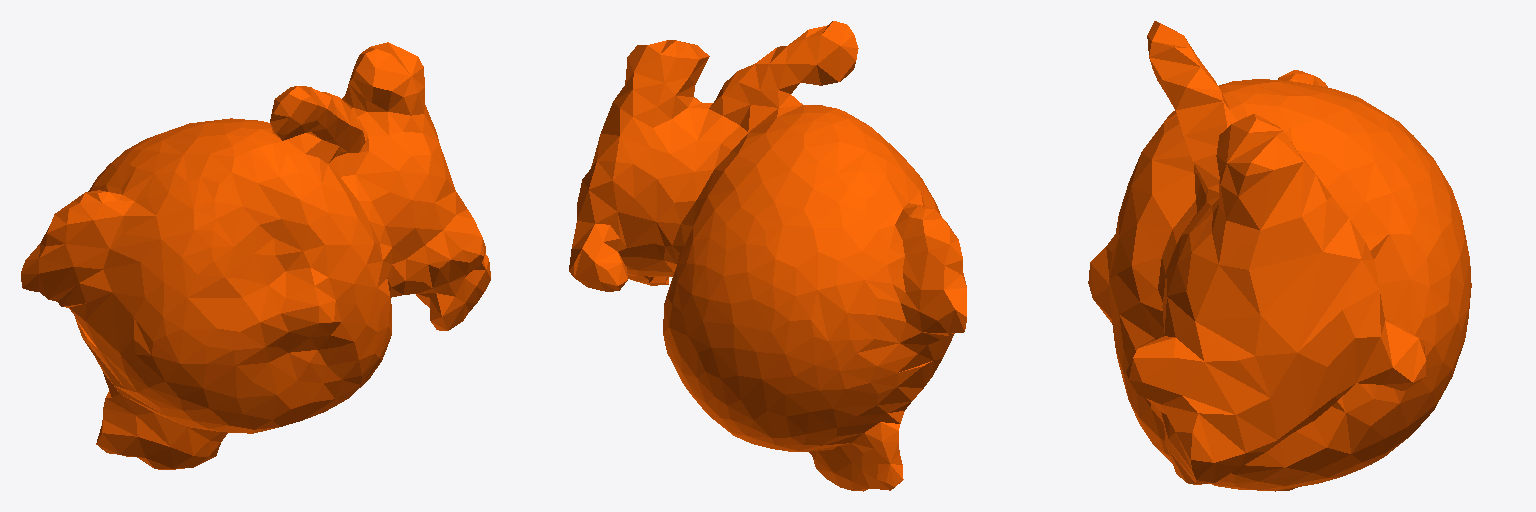
The robot description file, URDF, robot "panda":
<?xml version="1.0" ?>
<robot name="panda">
   <material name="obj_color">
      <color rgba="1.0 0.423529411765 0.0392156862745 1.0"/>
   </material>
   <link name="top">
      <inertial>
         <origin rpy="0.0006080035623306446 0.0008630026575102367 0.000997781574985453" xyz="-0.002590551252002001 0.001338426756370152 -0.002767647821465706"/>
         <mass value="0.8223557494407959"/>
         <inertia ixx="0.0006586721034038481" ixy="6.830392757387336e-05" ixz="-8.568042569136526e-05" iyy="0.0009830368963862836" iyz="2.938582704154969e-05" izz="0.0008270787950362024"/>
      </inertial>
      <visual>
         <origin rpy="0 0 0" xyz="0 0 0"/>
         <geometry>
            <mesh filename="top_watertight_tiny.stl" scale="1 1 1"/>
         </geometry>
         <material name="obj_color"/>
      </visual>
      <collision>
         <origin rpy="0 0 0" xyz="0 0 0"/>
         <geometry>
            <mesh filename="top_watertight_tiny.obj" scale="1 1 1"/>
         </geometry>
      </collision>
   </link>
   <link name="bottom">
      <inertial>
         <origin rpy="1.633333333199431e-08 1.633333333199431e-08 1.633333333362855e-08" xyz="0.3464080000000008 0.3464080000000008 0.3464080000000008"/>
         <mass value="0.0009800000000000017"/>
         <inertia ixx="1.633333333253906e-08" ixy="5.447480642029219e-19" ixz="5.447480642029219e-19" iyy="1.633333333253906e-08" iyz="5.447480642029219e-19" izz="1.633333333253906e-08"/>
      </inertial>
      <visual>
         <origin rpy="0 0 0" xyz="0 0 0"/>
         <geometry>
            <mesh filename="bottom_watertight_tiny.stl" scale="1 1 1"/>
         </geometry>
         <material name="obj_color"/>
      </visual>
   </link>
   <link name="world"/>
   <joint name="world_to_base" type="fixed">
      <origin xyz="0 0 0"/>
      <axis xyz="0 0 0"/>
      <parent link="world"/>
      <child link="bottom"/>
   </joint>
   <joint name="rotation" type="revolute">
      <origin xyz="0 0 0"/>
      <axis xyz="0 0 -1"/>
      <parent link="bottom"/>
      <child link="top"/>
      <dynamics damping="1.0" friction="1.0"/>
      <limit effort="0.1" velocity="0.1" lower="0" upper="0.001"/>
   </joint>
</robot>

--- Render facts (derived) ---
Views: 3 orthographic renders of the robot side by side, from view 1: azimuth 30°, elevation 25°; view 2: azimuth 150°, elevation 25°; view 3: azimuth 270°, elevation 25°.
Model panda with 3 links and 2 joints (1 revolute, 1 fixed), rooted at world, posed every joint at zero.
Visible links, largest first — view 1: top; view 2: top; view 3: top.
Boxes of the visible links, box(x1,y1,x2,y2) form: top: box(21, 42, 490, 469); top: box(569, 21, 966, 491); top: box(1088, 21, 1471, 491).
Bounding box of the posed robot: 0.1317 × 0.0862 × 0.1242 m (x, y, z).
1 mesh visuals loaded from 2 distinct referenced files (1 binary STL); not drawn: 1 (reference not matched to a file when rendering).
